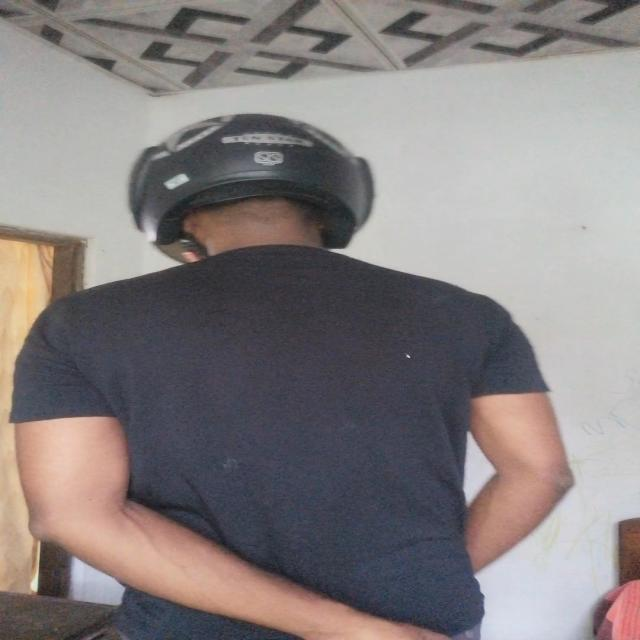Helmet_Wearer: (97, 102, 411, 281)
Person: (18, 106, 581, 640)
